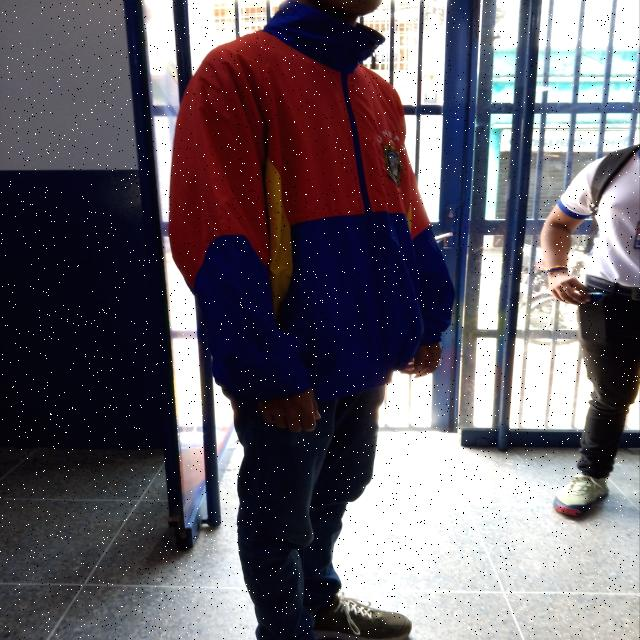chaqueta_unefa: (167, 0, 458, 402)
